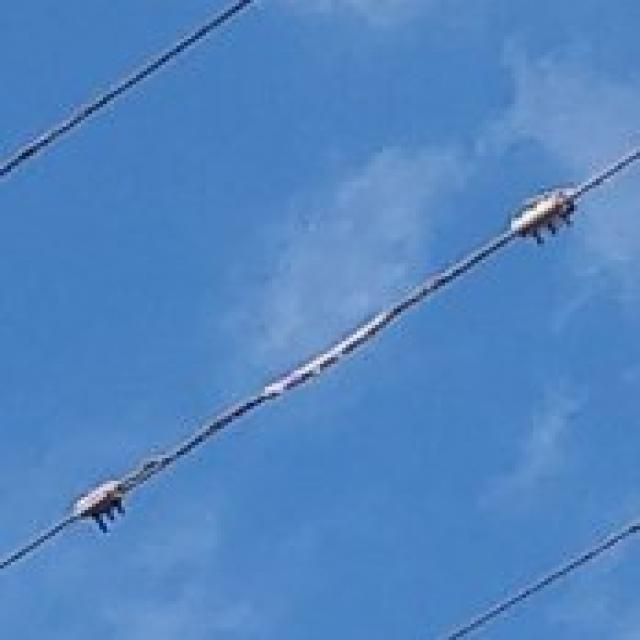wire: (442, 516, 640, 640)
